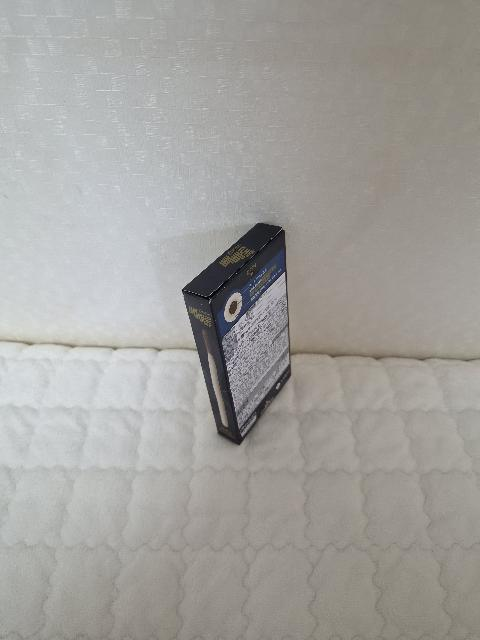pepero: (181, 223, 292, 445)
